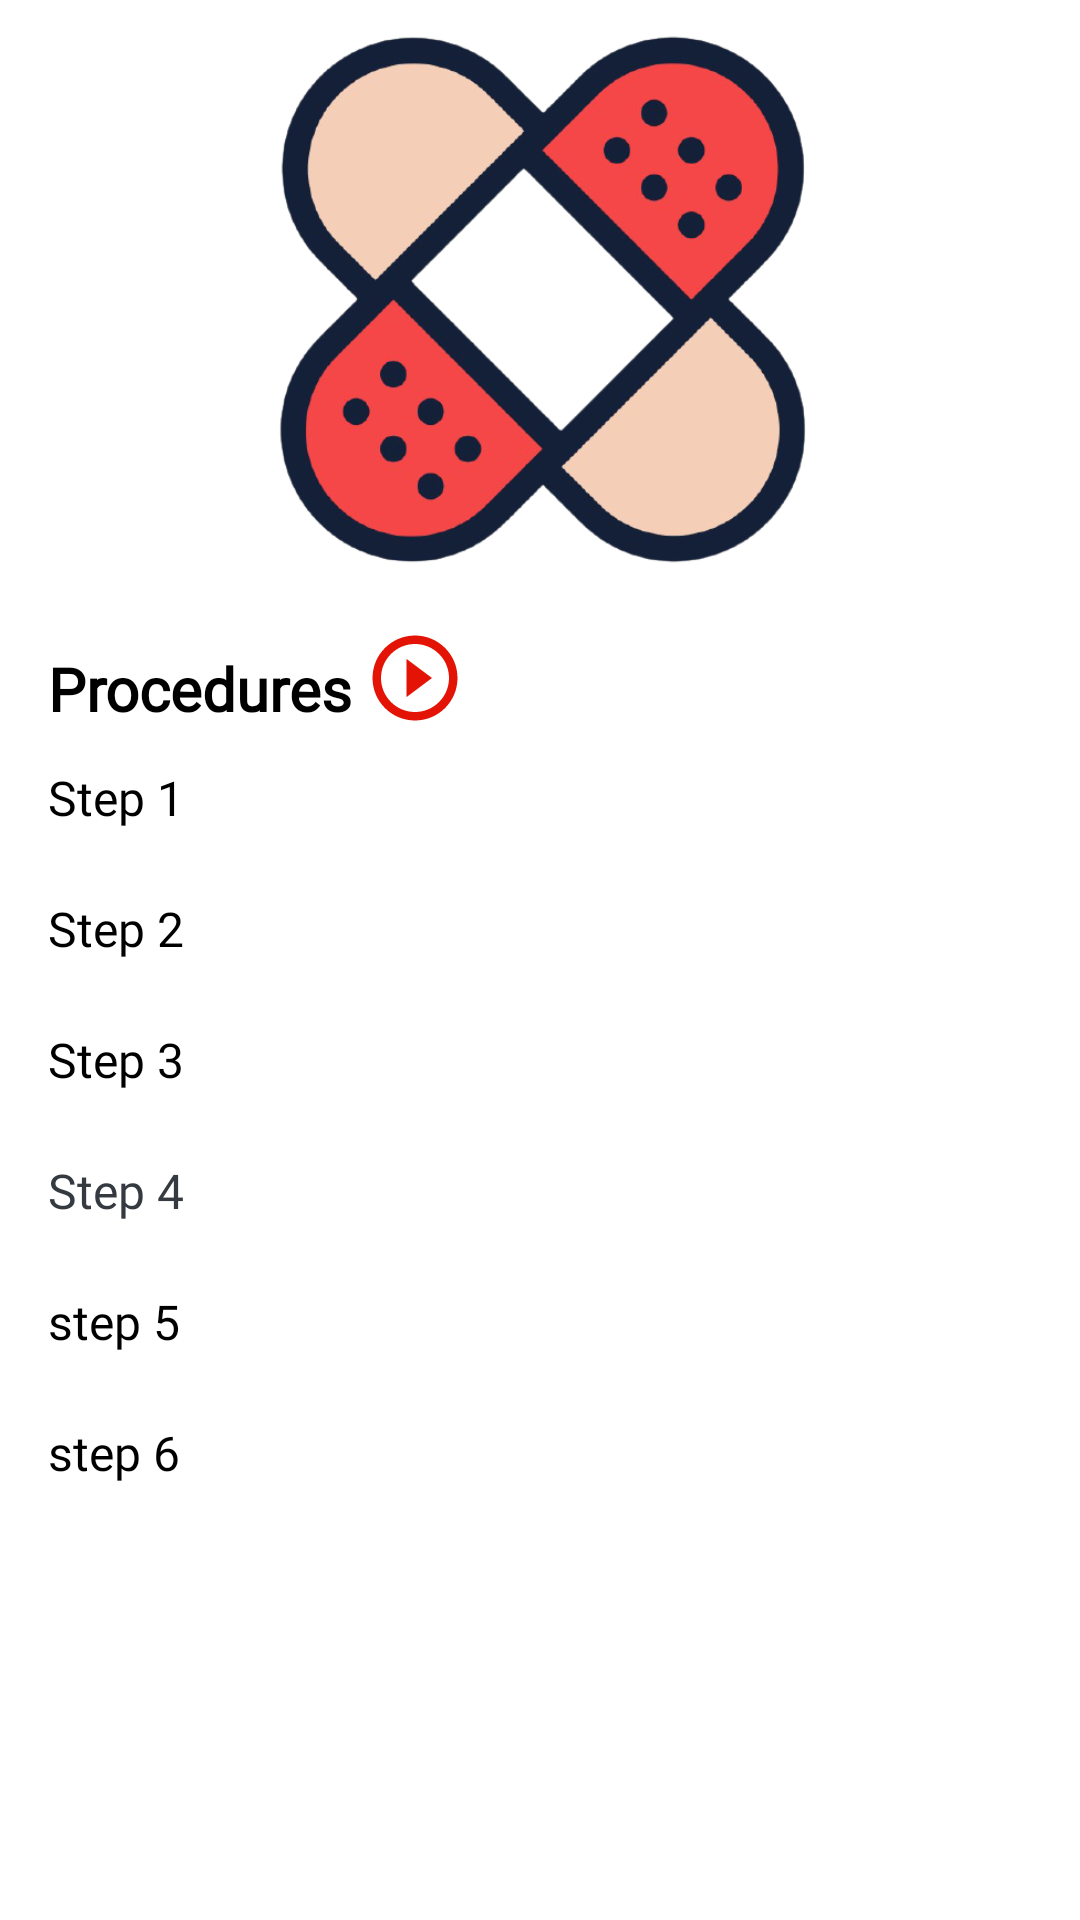

Icon bounding boxes for this 1080×1920 phone screenshot, format bbox(x1, y1, x2, y2):
play circle: bbox(372, 635, 458, 721)
